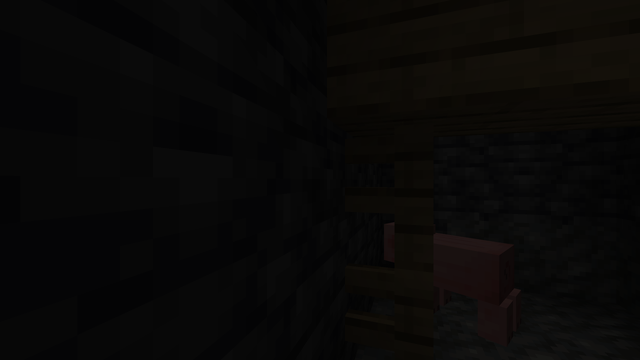cochons: (434, 231, 515, 343)
